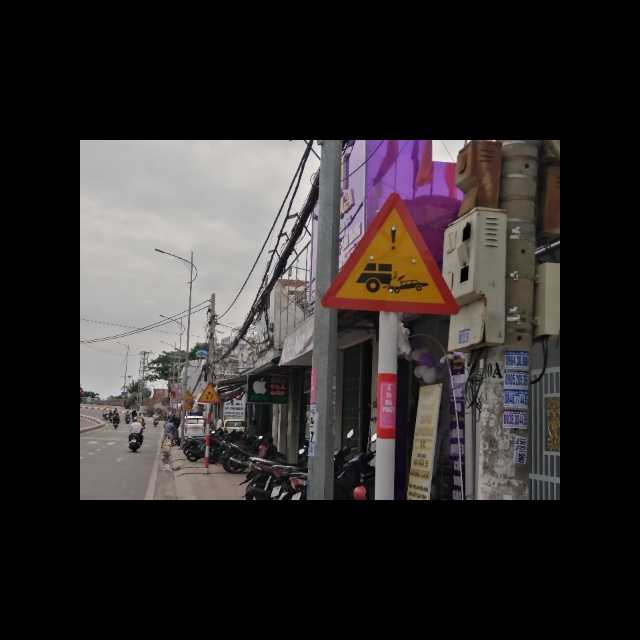Đoạn đường hay xảy ra tai nạn: (321, 191, 465, 314)
Đường đôi: (197, 382, 220, 403)
